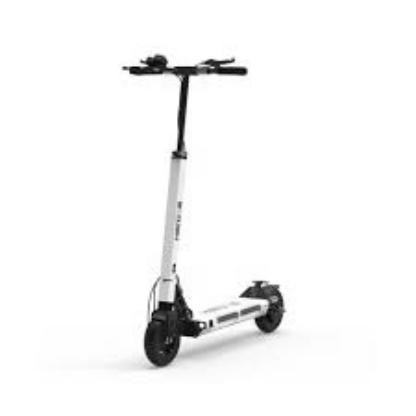bike: (119, 53, 287, 368)
